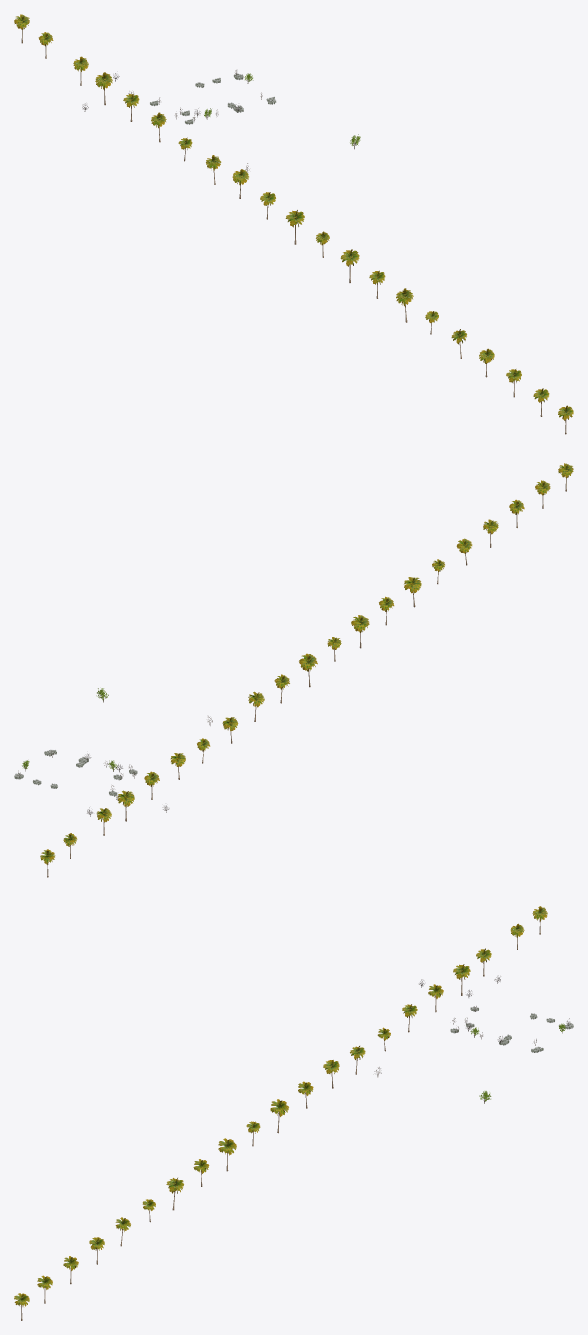
Rendered from Elysian_env.glb.
3 views of the same model, one above another, from view 1: azimuth 30°, elevation 25°; view 2: azimuth 150°, elevation 25°; view 3: azimuth 330°, elevation 25° (orthographic). The views are drawn at different scales.
Visible parts, largest first — view 1: plants_location; view 2: plants_location; view 3: plants_location.
Boxes of the visible parts, bbox=[...] form: plants_location: bbox=[14, 14, 573, 434]; plants_location: bbox=[14, 463, 573, 877]; plants_location: bbox=[14, 906, 573, 1320].
Size of the model in its own units: 75.33 by 14.07 by 399.
9 materials, 9 textured.
